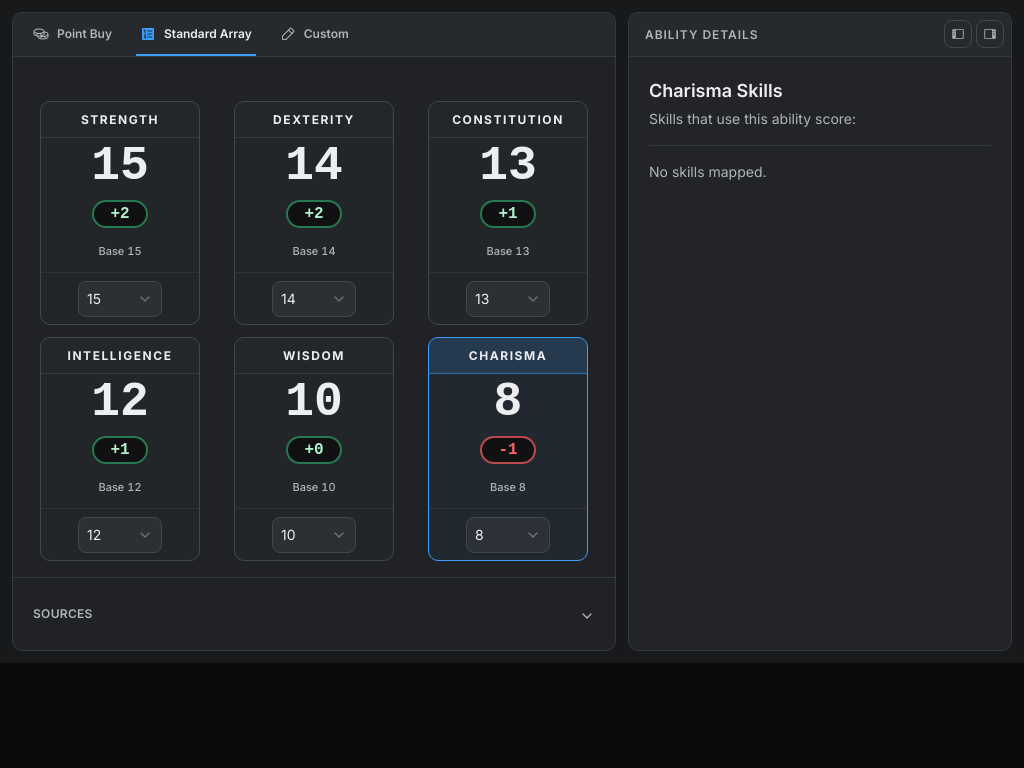
Test: BuildAbilityScoresPage › uses background-specific empty guidance for revised characters
Click the button "Sources": [63, 614] box [29,594,599,634]
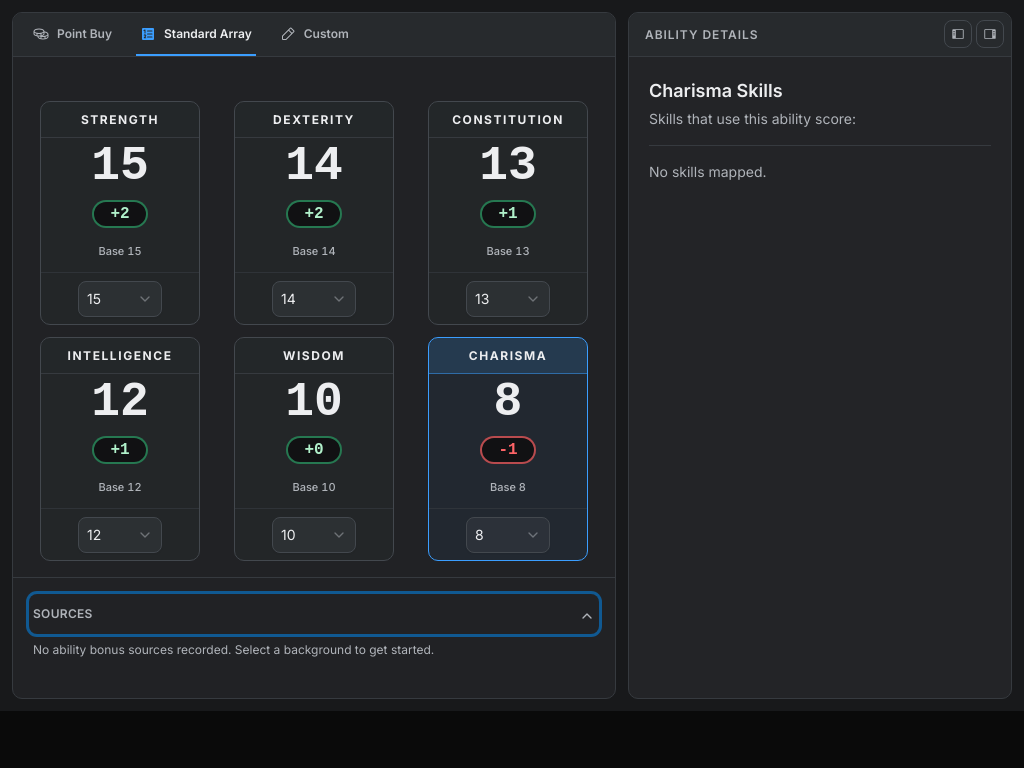
Check: the text "No ability bonus sources recorded. Select a background to get started." is shown, box [33,642,434,657]
